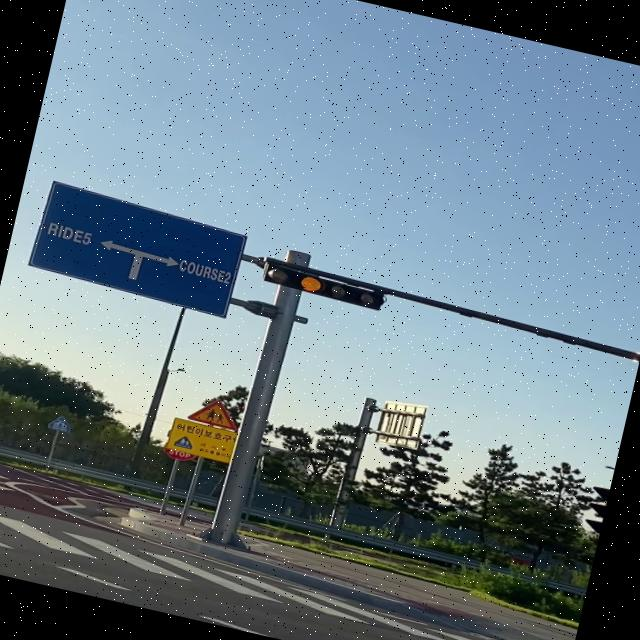yellow_light: (261, 264, 384, 310)
